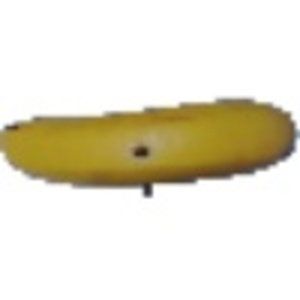banana: (2, 102, 298, 187)
